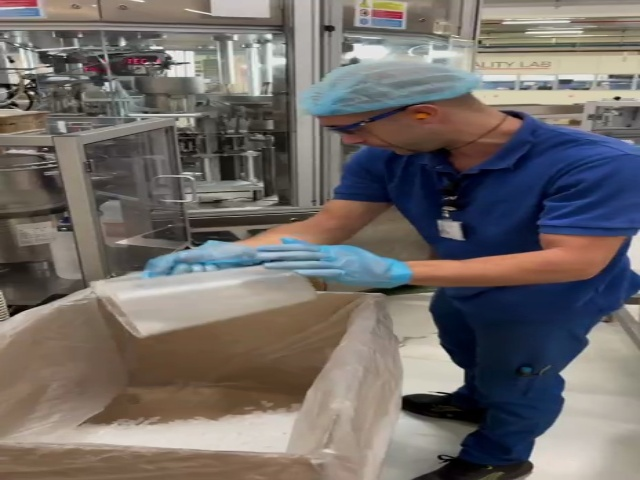Earplug: (411, 105, 441, 127)
Hairnet: (307, 60, 474, 114)
No_Helmet: (310, 63, 470, 114)
No_Vest: (359, 147, 640, 307)
Person: (286, 58, 640, 480)
Safety_Goggles: (320, 99, 425, 136)
